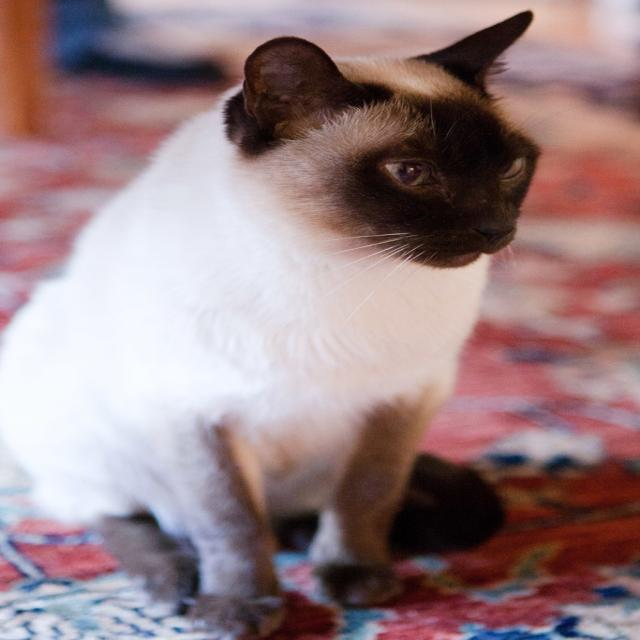Cat: (0, 8, 545, 639)
